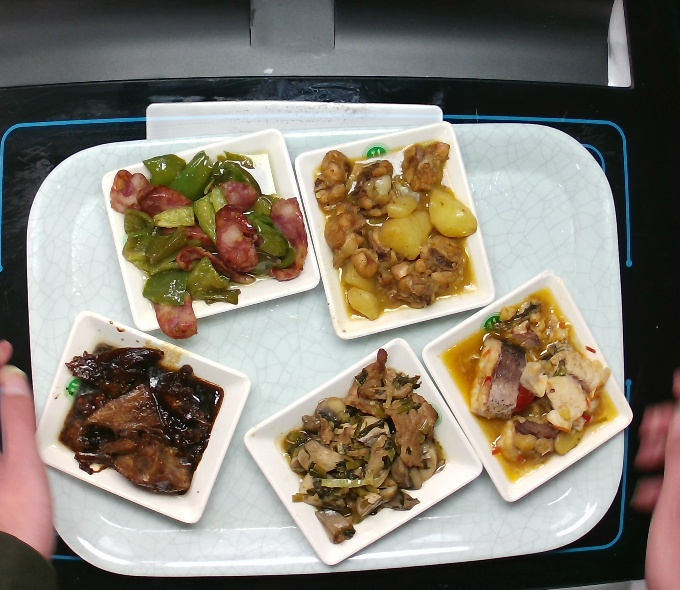wcq-JiangZhiYa: (54, 337, 226, 499)
wcq-MoGuRouPian: (278, 347, 444, 543)
wcq-QingJiaoXiangChang: (106, 146, 310, 343)
wcq-SuanCaiYu: (439, 287, 620, 480)
wcq-TuDouJiKuai: (310, 139, 478, 322)
